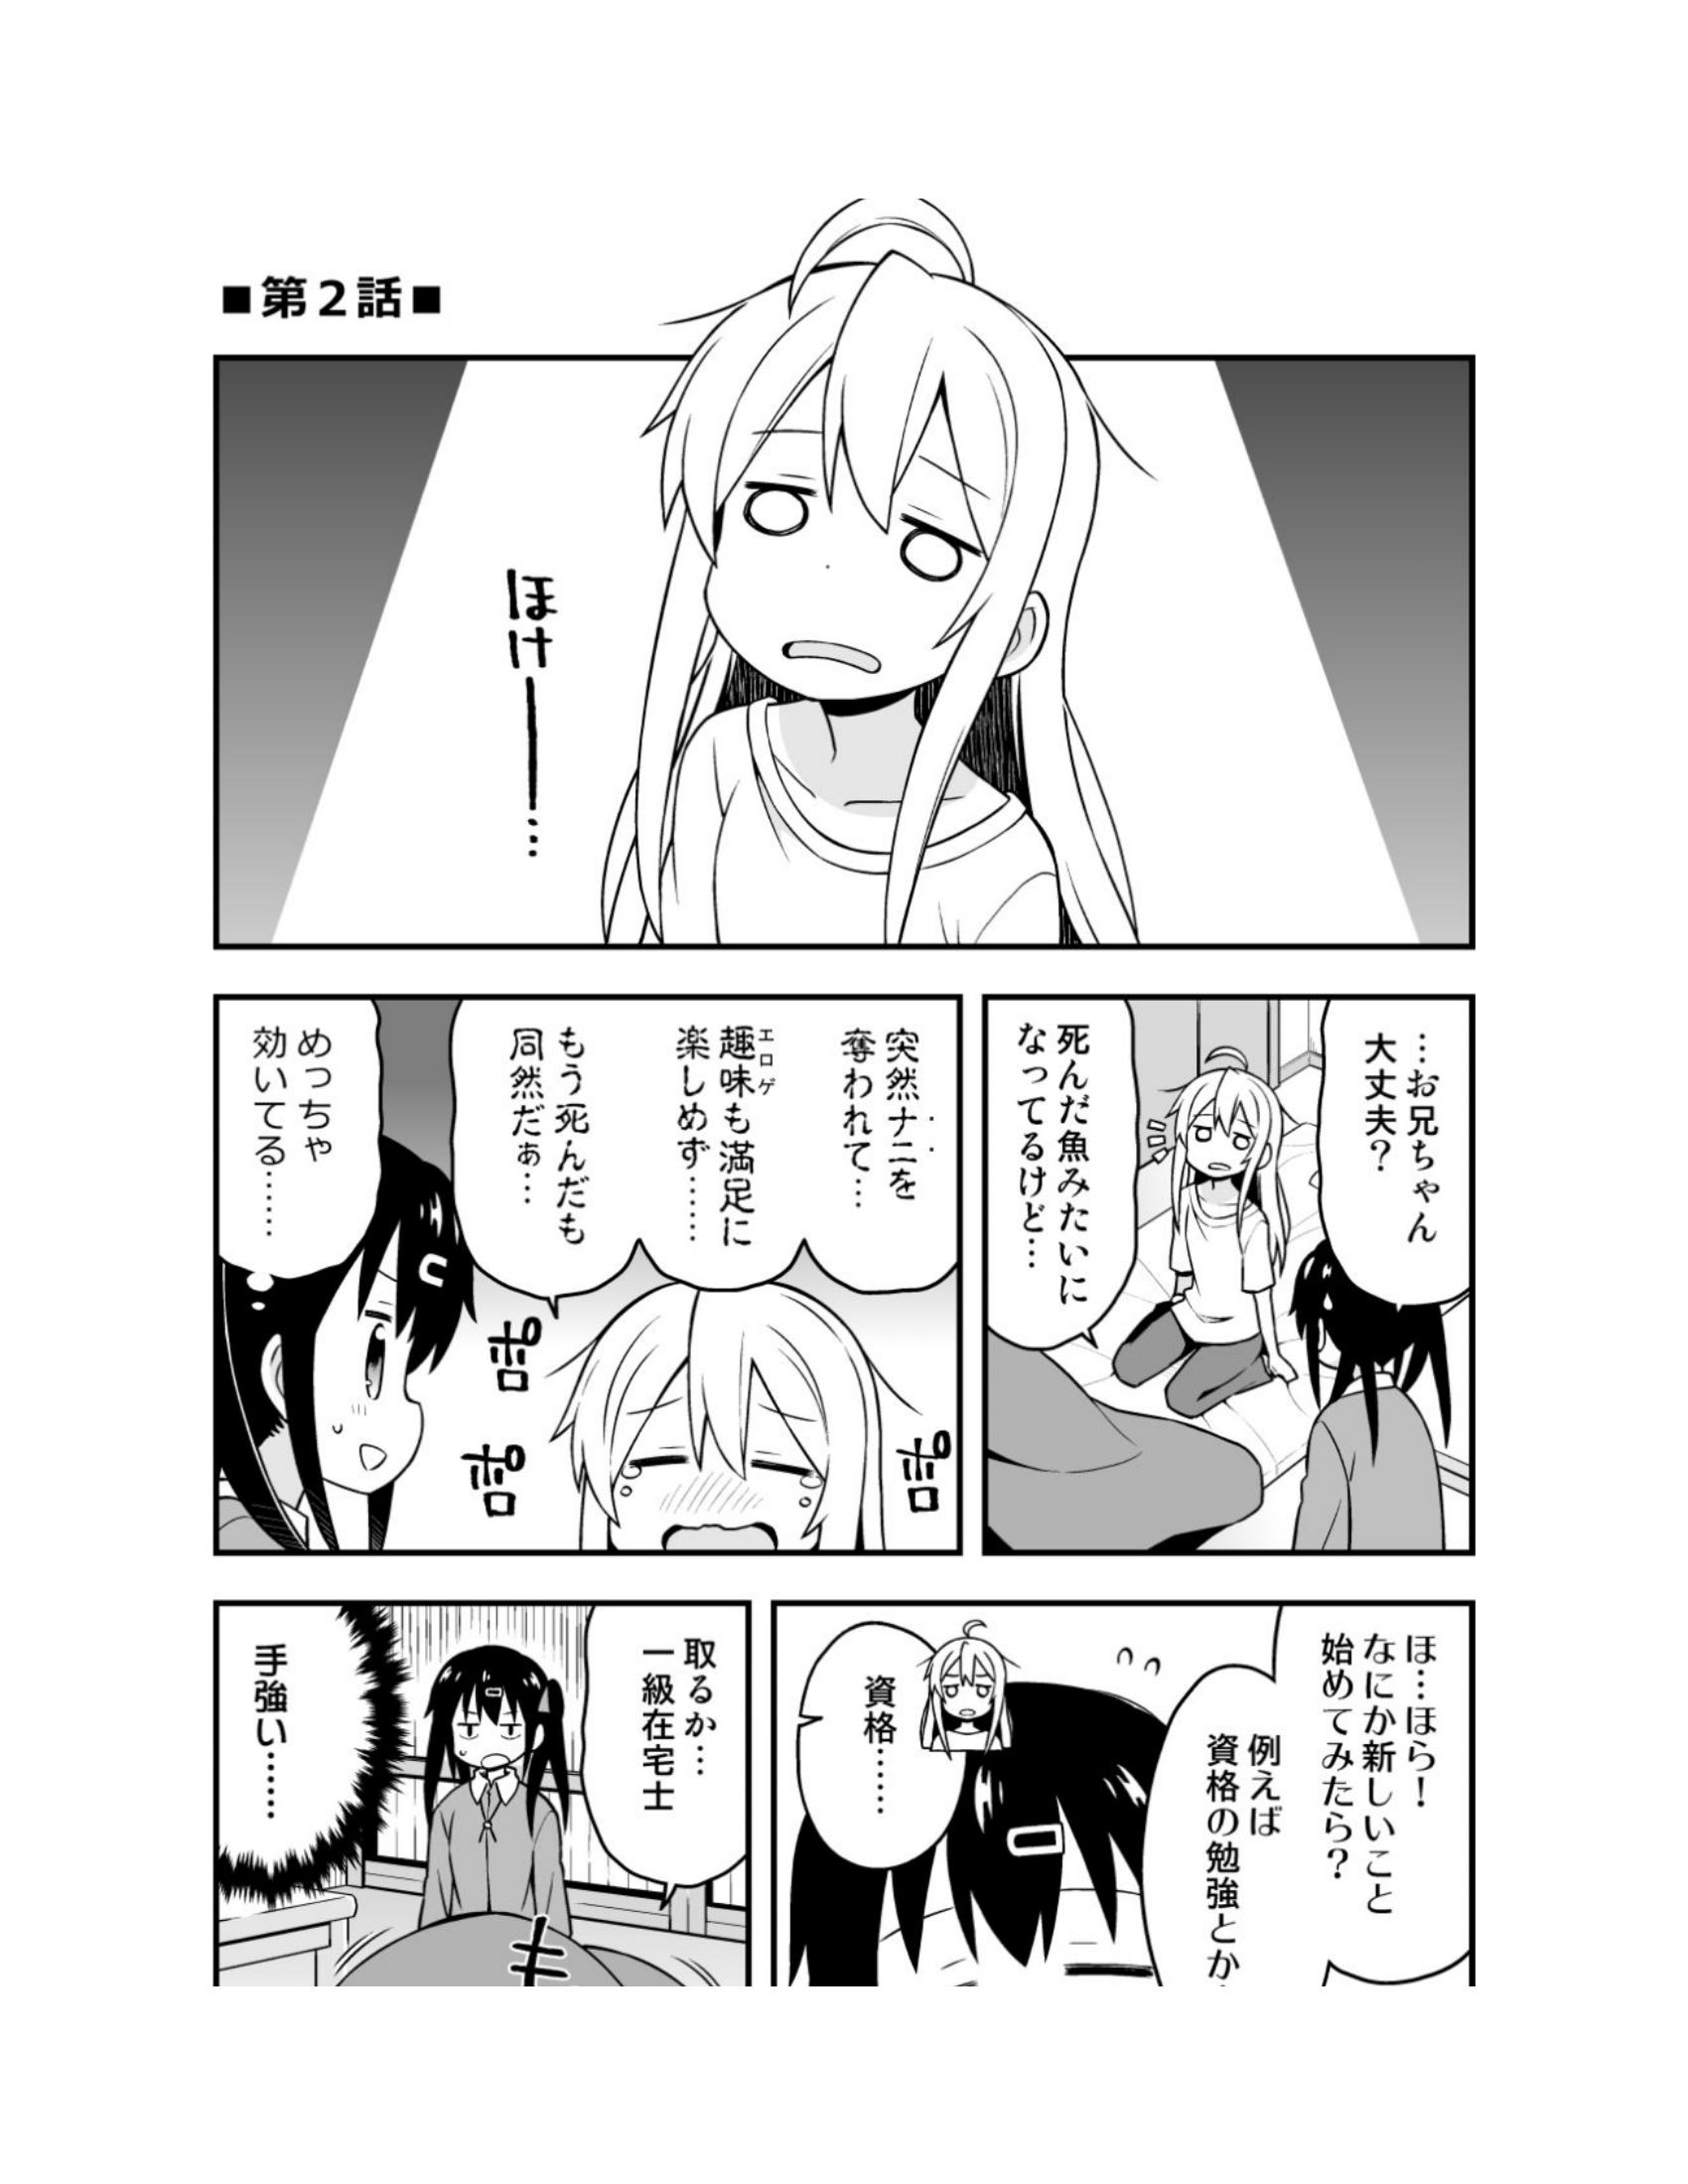a: (433, 993, 635, 1285), (211, 1603, 413, 1895), (1321, 1615, 1479, 1978), (1137, 1675, 1309, 1993), (204, 996, 379, 1289), (587, 1592, 759, 1884), (796, 989, 965, 1278), (995, 996, 1144, 1322), (651, 1012, 816, 1296), (803, 1618, 988, 1865), (1325, 1003, 1479, 1285)
